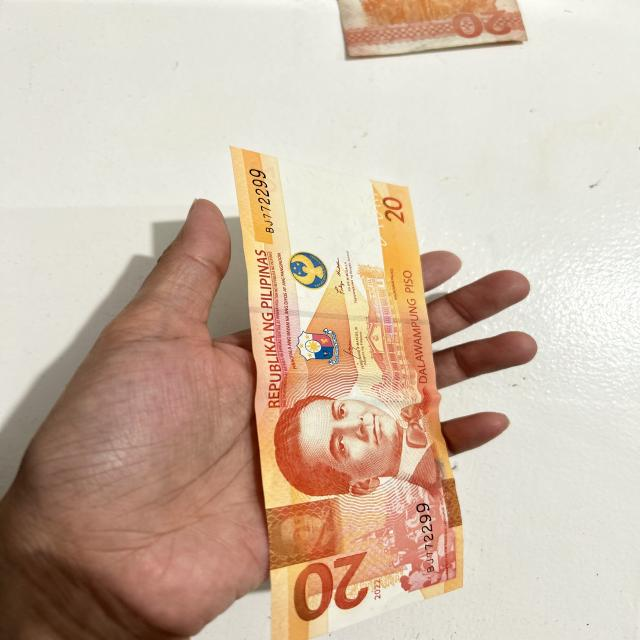concealed_value: (266, 498, 345, 570)
security_thread: (250, 300, 429, 337)
see_through_mark: (360, 182, 395, 256)
serial_number: (247, 164, 285, 241), (412, 494, 440, 581)
value: (284, 553, 394, 621)
watermark: (279, 172, 387, 258)
